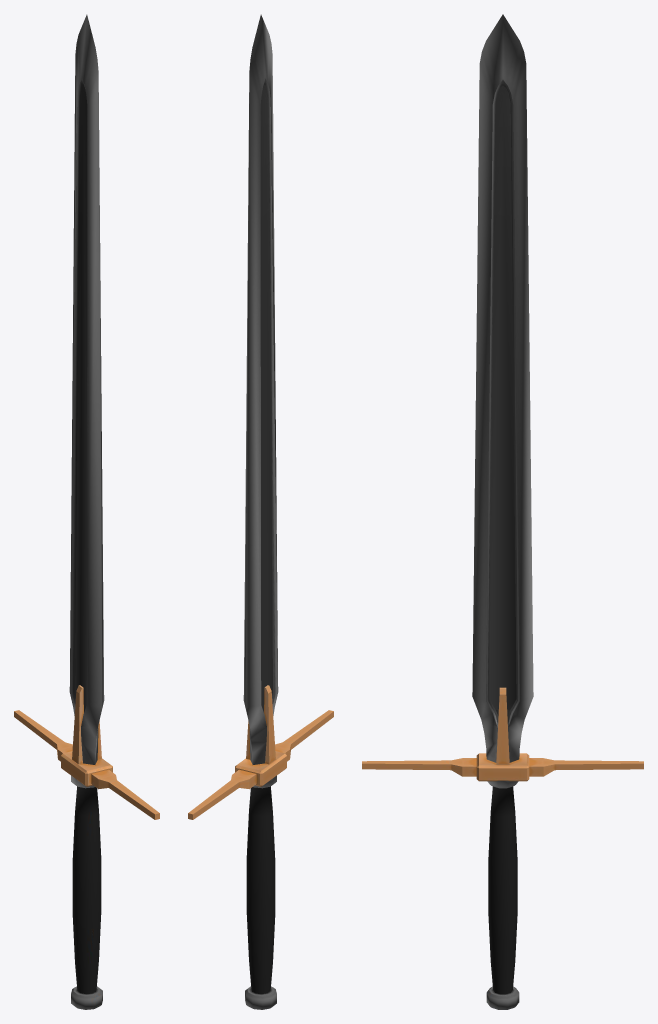
Rendered from Sword_04.gltf.
3 renders of one model, left to right at view 1: azimuth 30°, elevation 25°; view 2: azimuth 150°, elevation 25°; view 3: azimuth 270°, elevation 25°, orthographic.
Visible parts, largest first — view 1: Sword_Model_03; view 2: Sword_Model_03; view 3: Sword_Model_03.
Boxes of the visible parts, <box> form: Sword_Model_03: <box>14,14,159,1009</box>; Sword_Model_03: <box>188,14,333,1009</box>; Sword_Model_03: <box>362,14,643,1009</box>.
Bounding box in the file's own units: 0.05 × 1.68 × 0.4329.
1 material, 1 textured.
